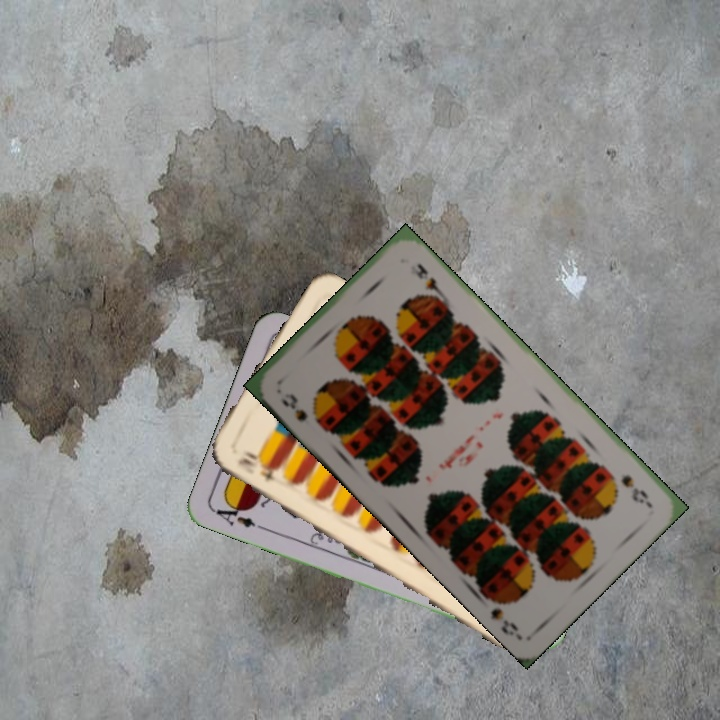E10: (233, 453, 280, 484)
EA: (210, 497, 258, 531)
S9: (277, 389, 323, 428), (617, 470, 653, 509)
